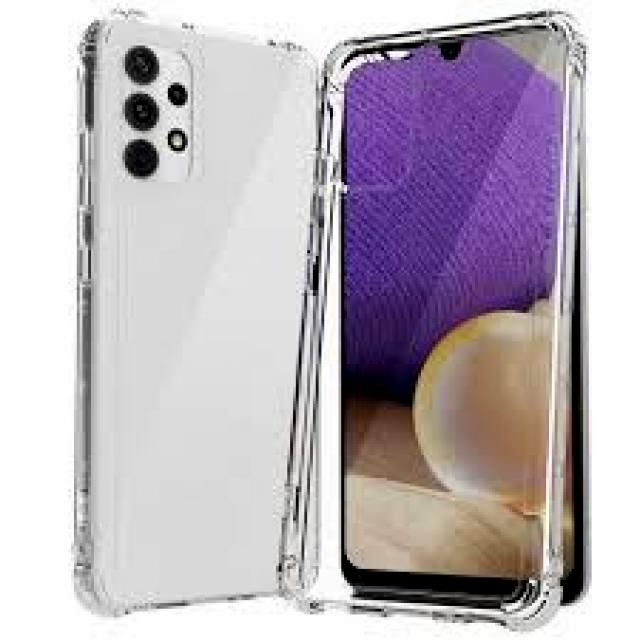lens_back: (114, 88, 164, 130), (117, 137, 159, 185), (119, 42, 163, 86), (165, 74, 193, 111)
phone: (72, 10, 326, 618), (342, 19, 597, 624)
